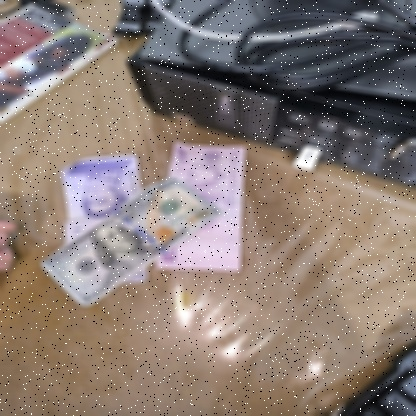one_hundred-front: (40, 175, 220, 314)
